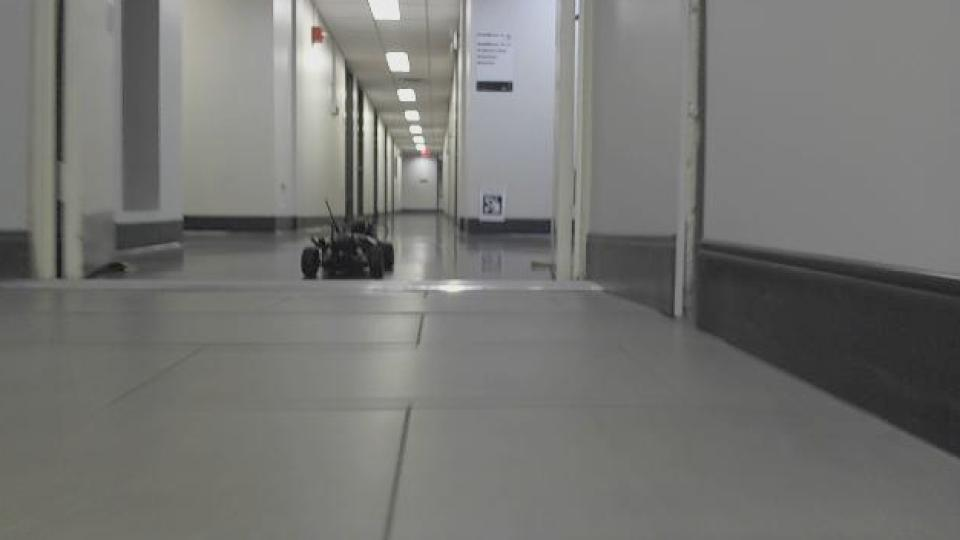car: (296, 198, 397, 282)
